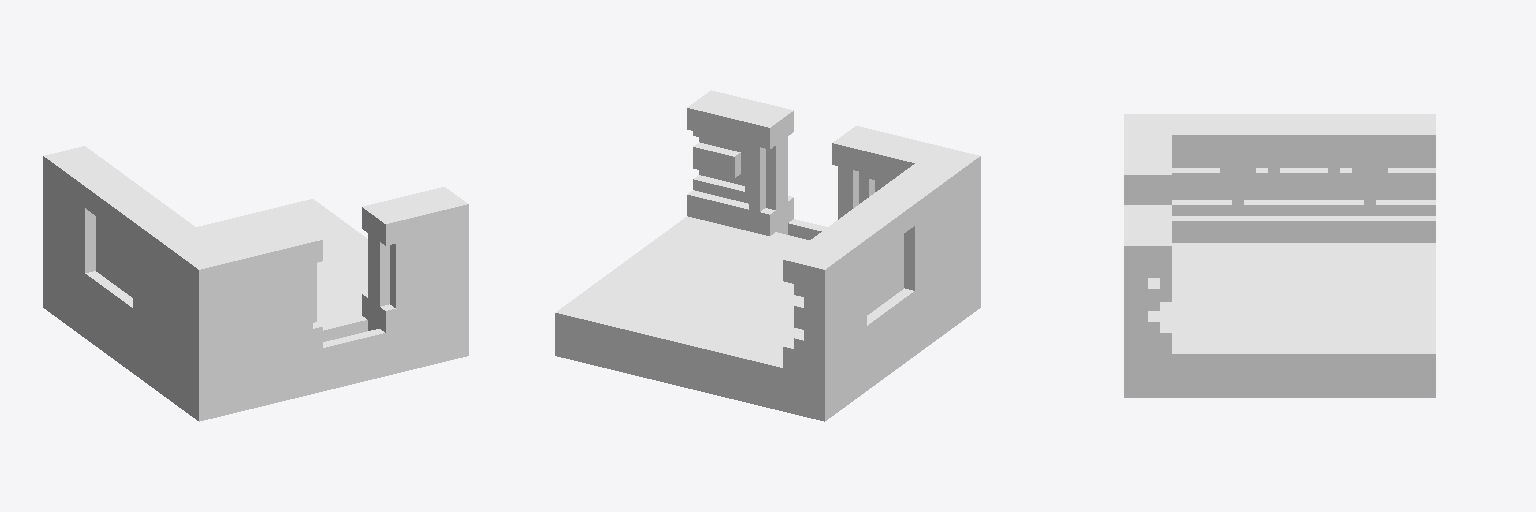
File: Room_Default_R.obj
3 renders of one model, left to right at view 1: azimuth 30°, elevation 25°; view 2: azimuth 150°, elevation 25°; view 3: azimuth 270°, elevation 25°, orthographic.
Parts seen in each view (by area): view 1: Room_Default_R; view 2: Room_Default_R; view 3: Room_Default_R.
Part boxes in pixels (bbox=[...]): Room_Default_R: bbox=[43, 146, 468, 421]; Room_Default_R: bbox=[555, 90, 980, 421]; Room_Default_R: bbox=[1124, 114, 1435, 397].
Size of the model in its own units: 26 by 14 by 26.